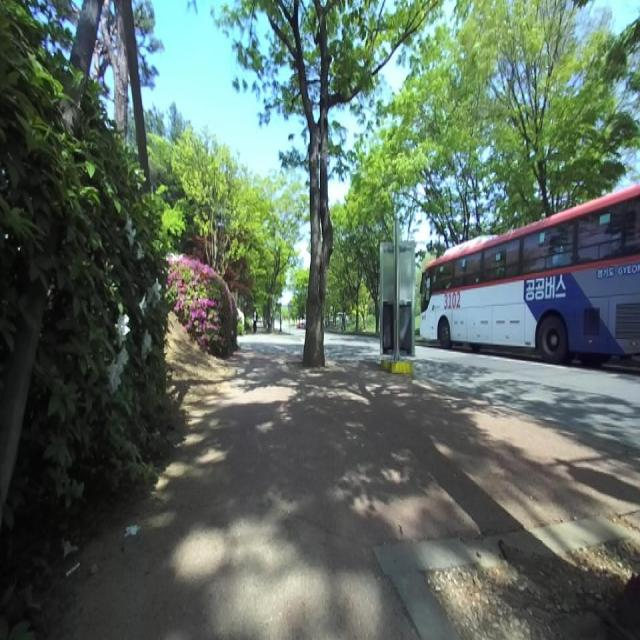sidewalk: (82, 351, 640, 640)
